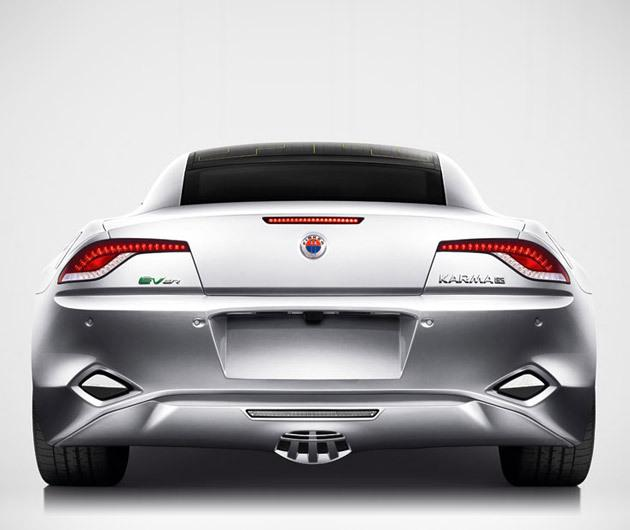Car: (26, 134, 618, 512)
